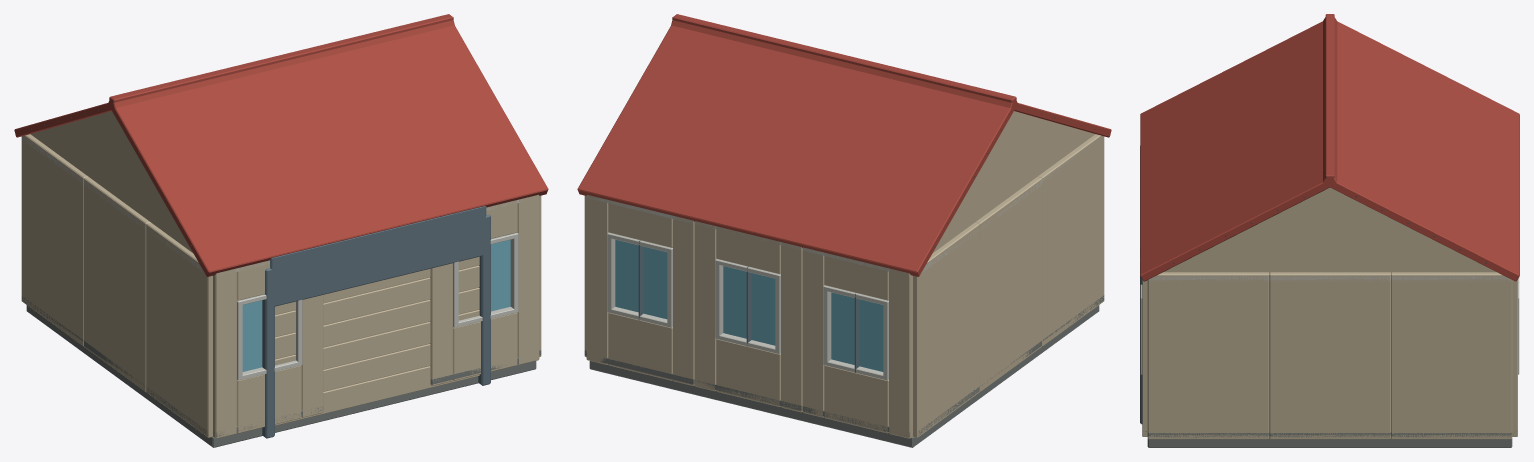
Rendered from architecture-garage.lod0.glb.
3 renders of one model, left to right at view 1: azimuth 30°, elevation 25°; view 2: azimuth 150°, elevation 25°; view 3: azimuth 270°, elevation 25°, orthographic. The views are drawn at different scales.
Parts seen in each view (by area): view 1: architecture-garage__body, architecture-garage__loading_door; view 2: architecture-garage__body; view 3: architecture-garage__body.
Boxes of the visible parts, x1,y1,x2,y2 form: architecture-garage__body: (14, 14, 548, 447); architecture-garage__loading_door: (275, 256, 479, 425); architecture-garage__body: (577, 14, 1111, 447); architecture-garage__body: (1140, 14, 1519, 447).
Size of the model in its own units: 6.31 by 5.03 by 6.25.
